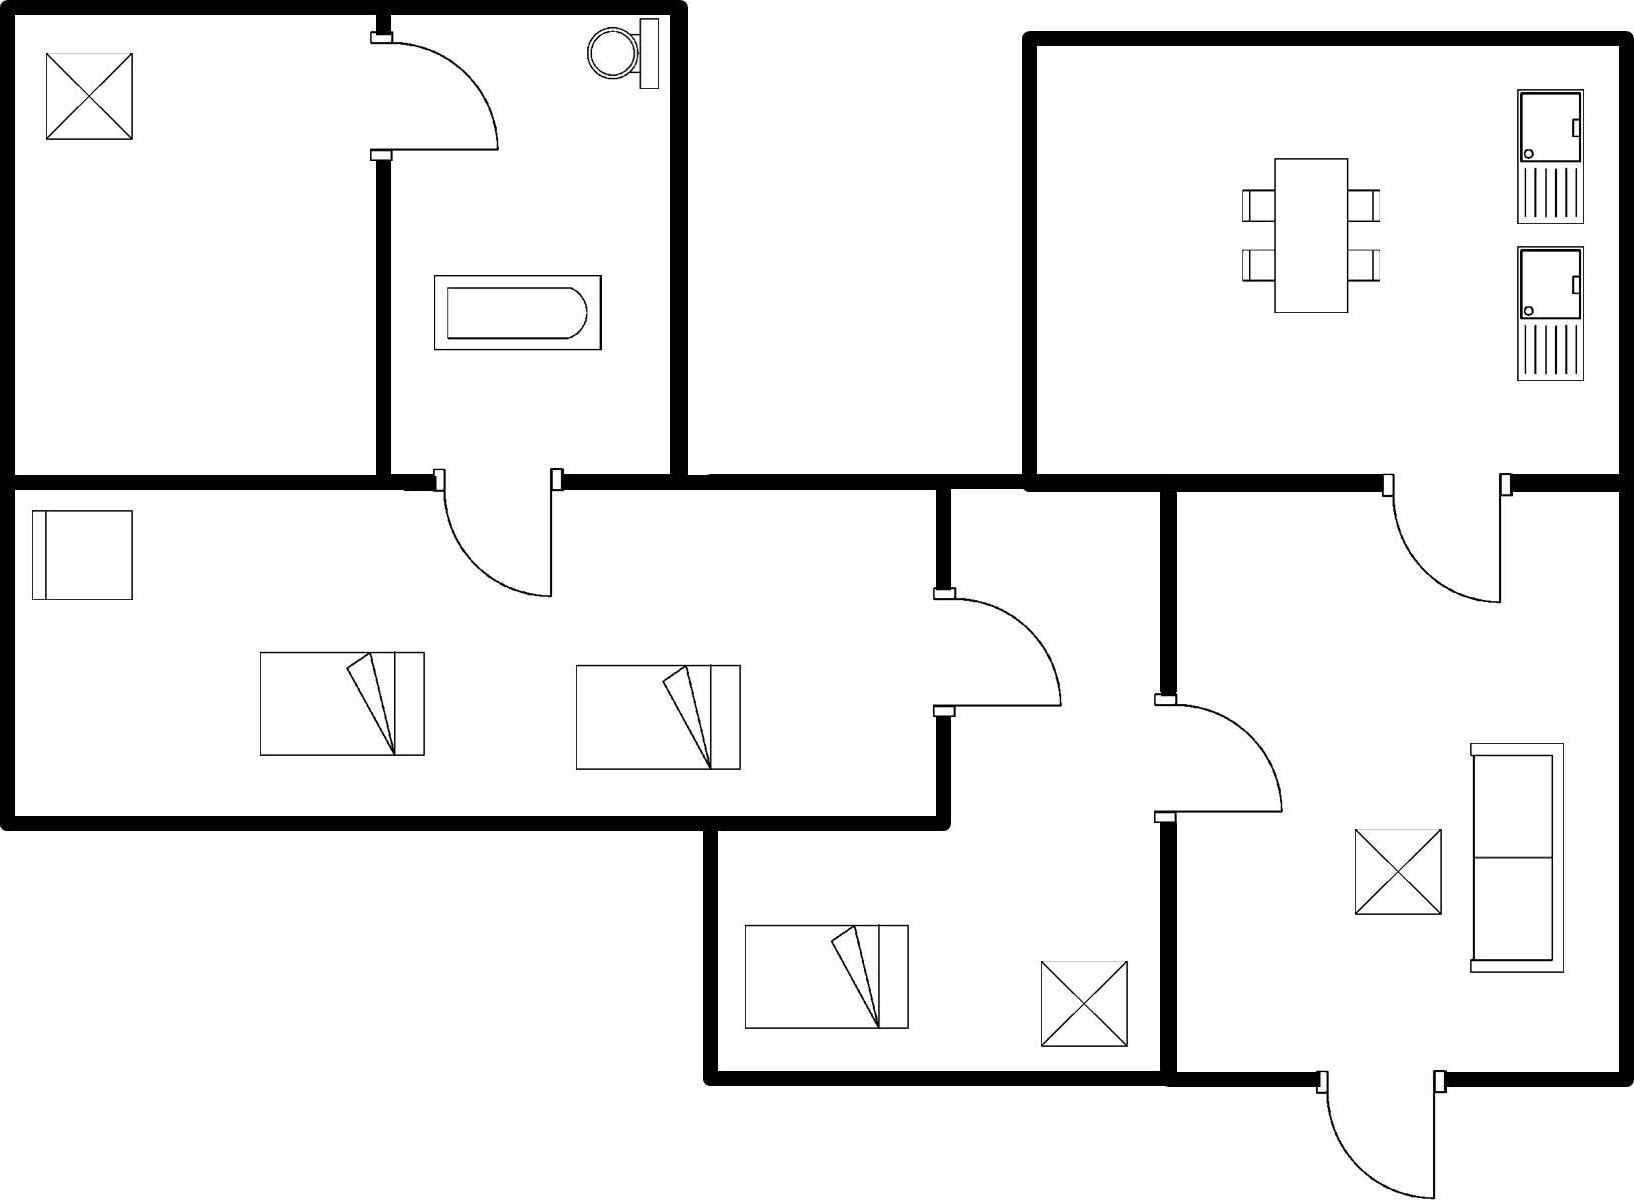bed: (565, 652, 754, 779), (252, 643, 436, 770), (735, 911, 918, 1038)
dining_table: (1231, 146, 1392, 325)
sink: (1506, 77, 1593, 233), (1508, 240, 1591, 389)
sofa: (1461, 734, 1577, 979)
toilet: (578, 14, 666, 101)
tub: (425, 265, 610, 356)
